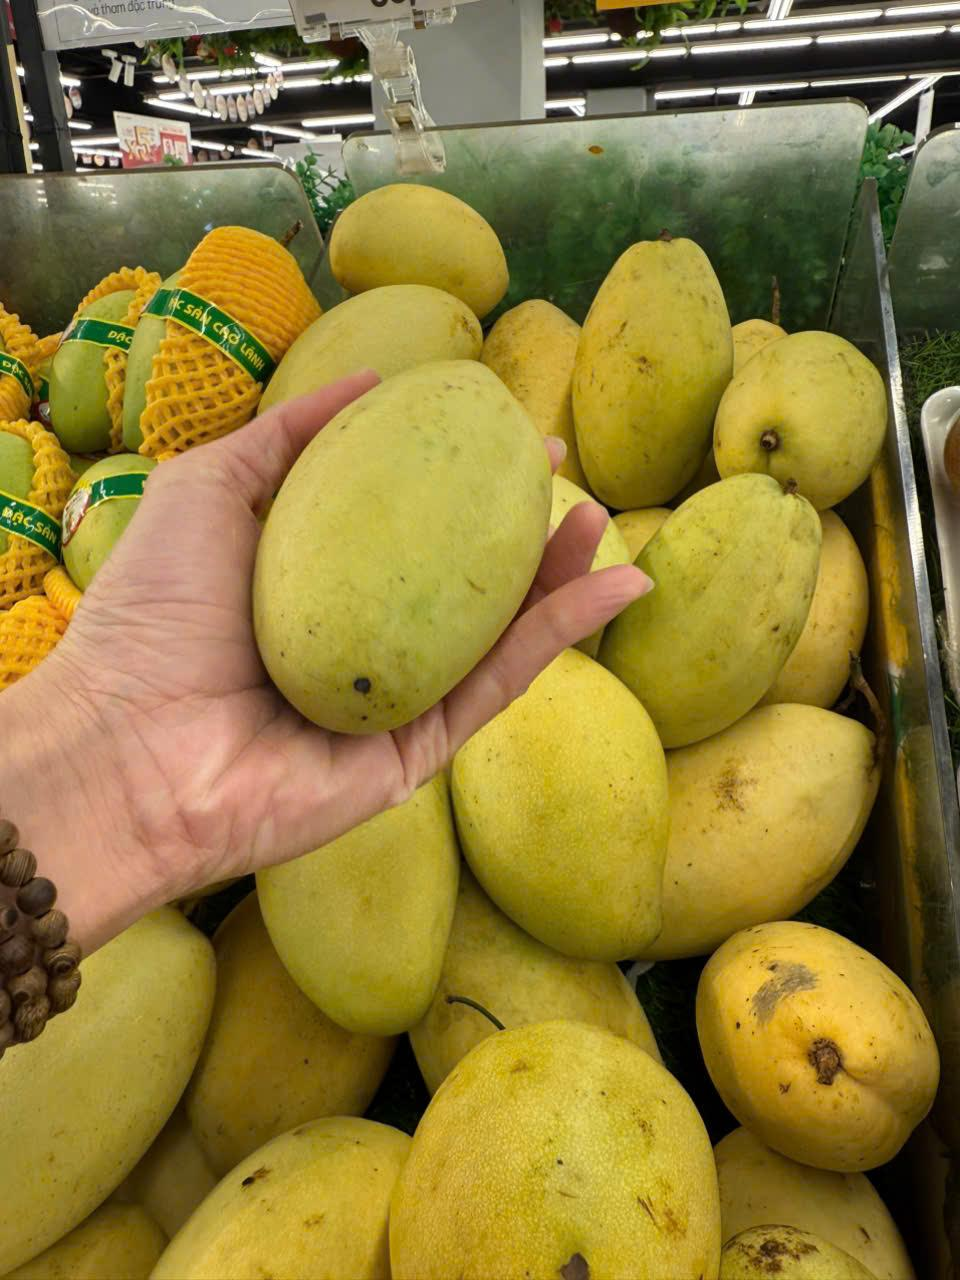mango: (247, 356, 556, 740), (382, 1016, 726, 1280), (693, 918, 960, 1182), (490, 638, 682, 962), (620, 463, 816, 748), (659, 698, 880, 934), (145, 1101, 416, 1280), (568, 223, 740, 498), (710, 326, 898, 502), (320, 165, 528, 313)
